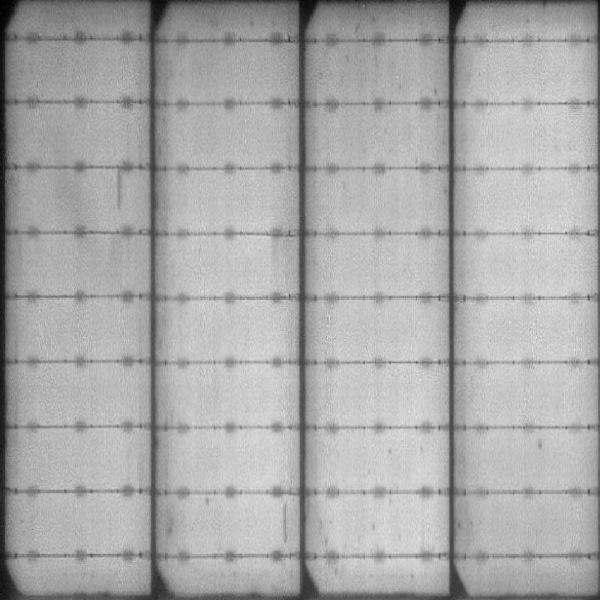scratch: (111, 171, 126, 212)
